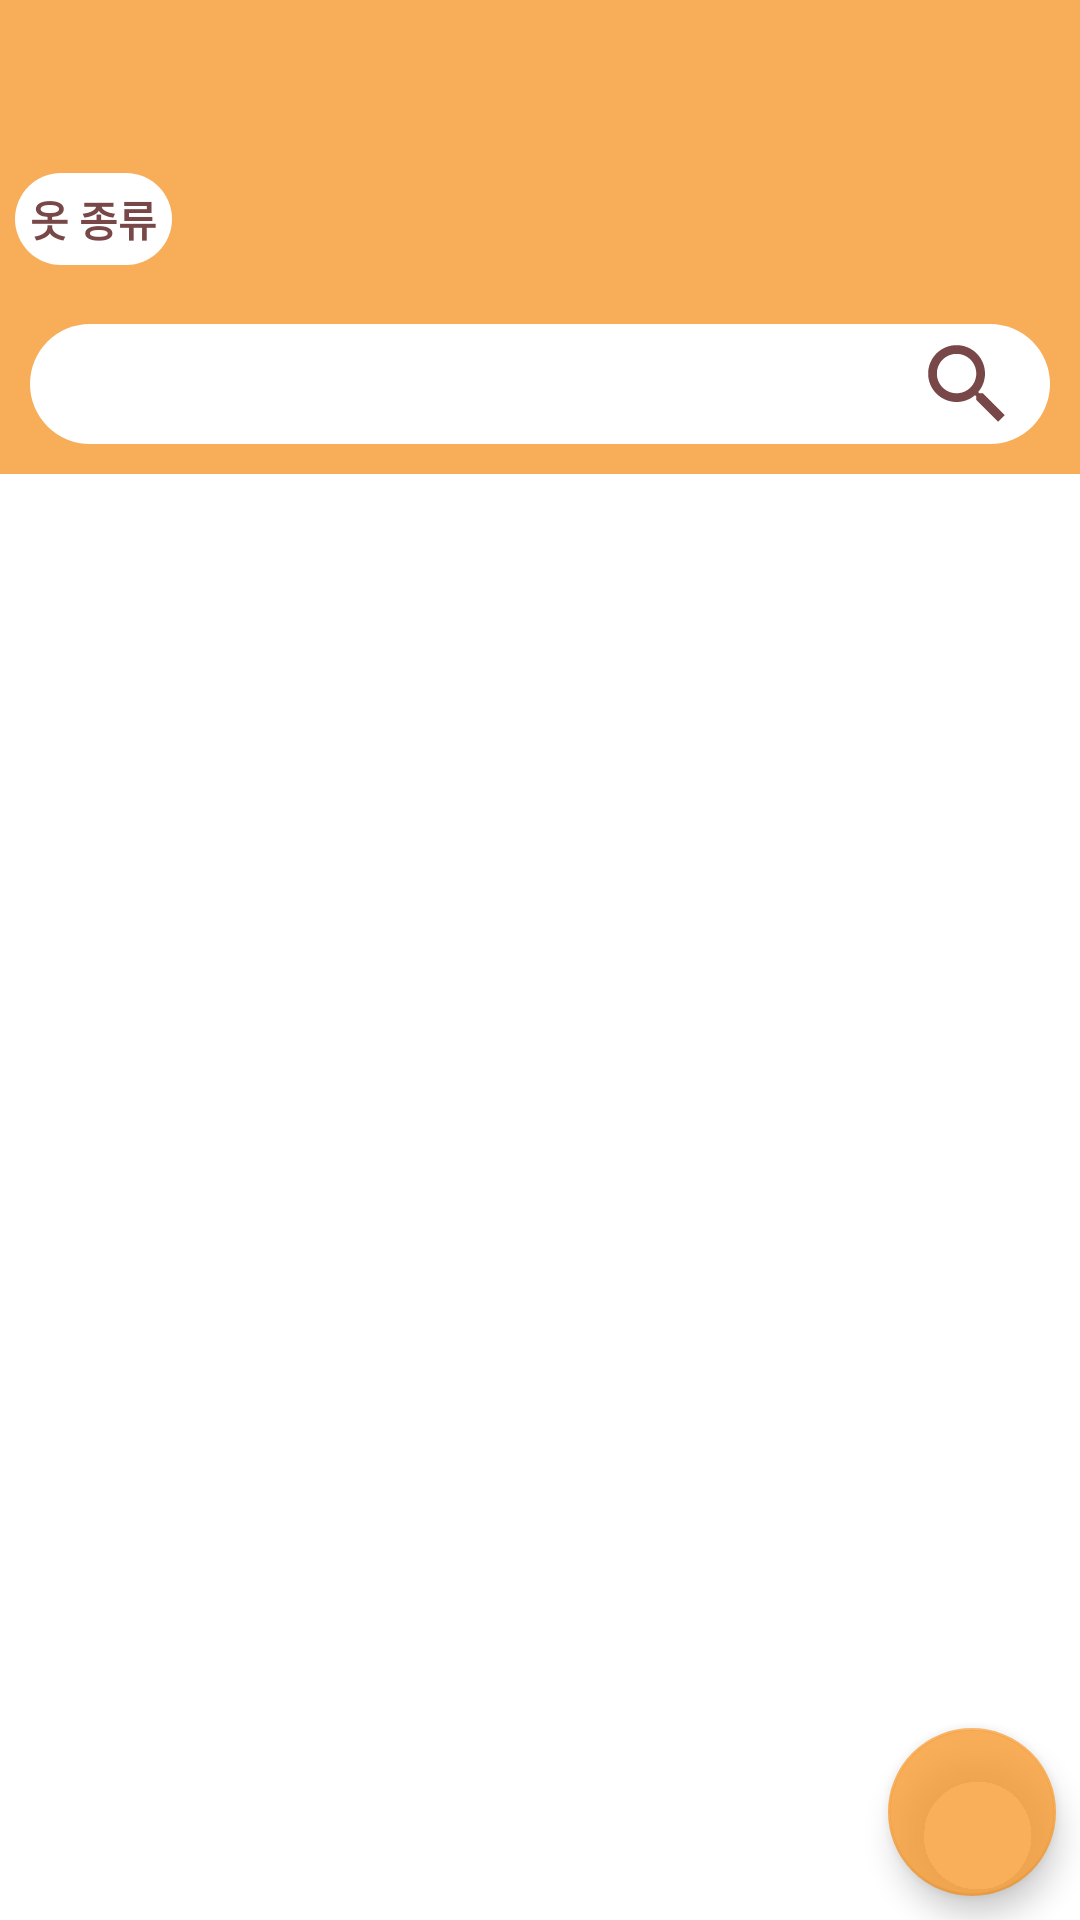

Where icons sit on this 1080w x 1920h app screen, as box(x1, y1, x2, y2):
search: box(928, 345, 1005, 422)
